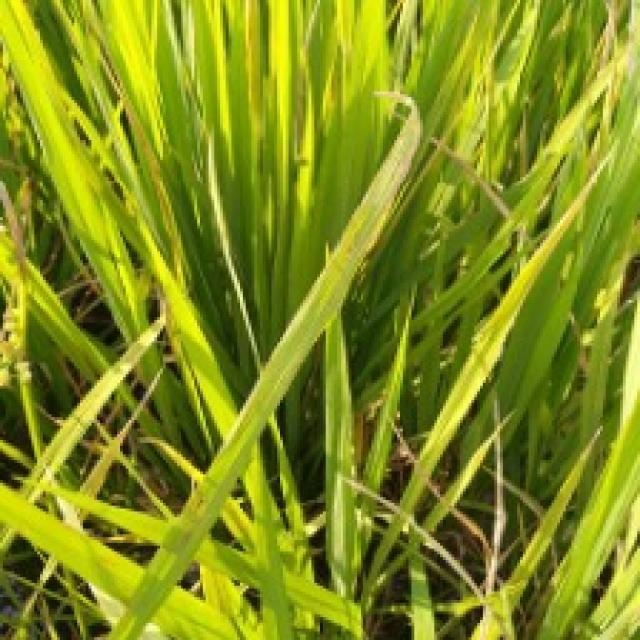Rice___Bacterial_Leaf_Blight: (106, 83, 425, 637)
